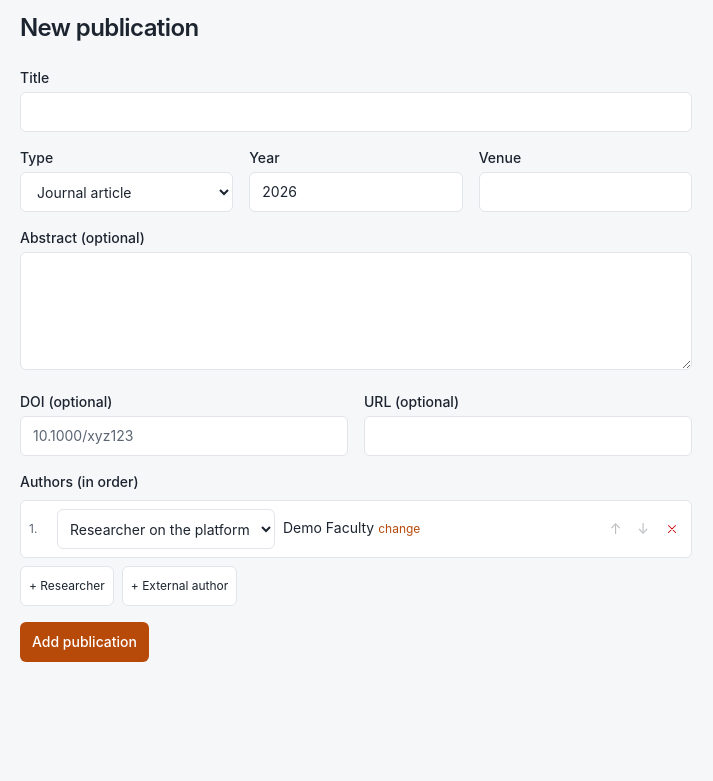
Test: PublicationFormPage › blocks submit when an author row is incomplete
The image size is (713, 781).
Type "Paper" into the field labelled "Title" at coordinates (356, 112), box 20,92 -> 692,132
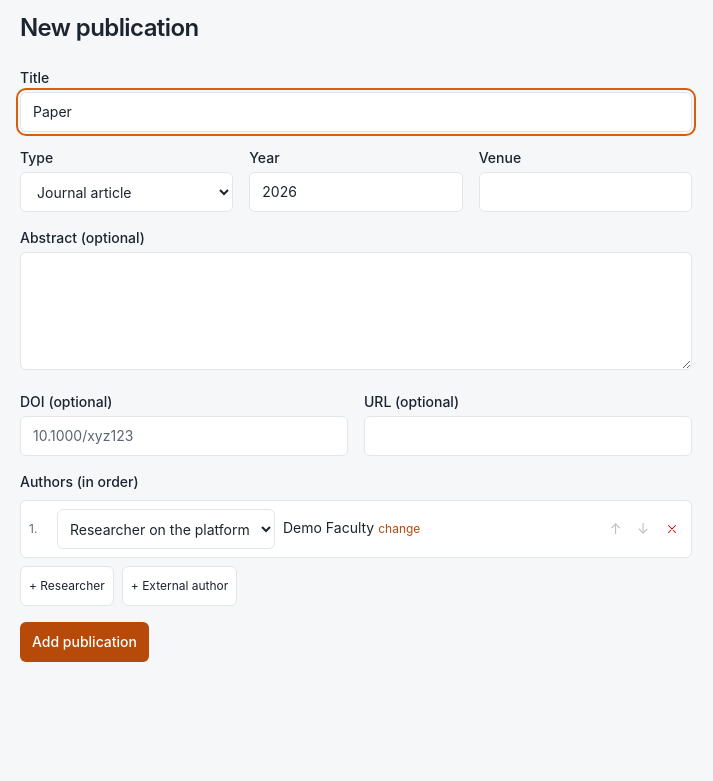
Click the button "+ External author" at coordinates (180, 586), box 122,566 -> 237,606
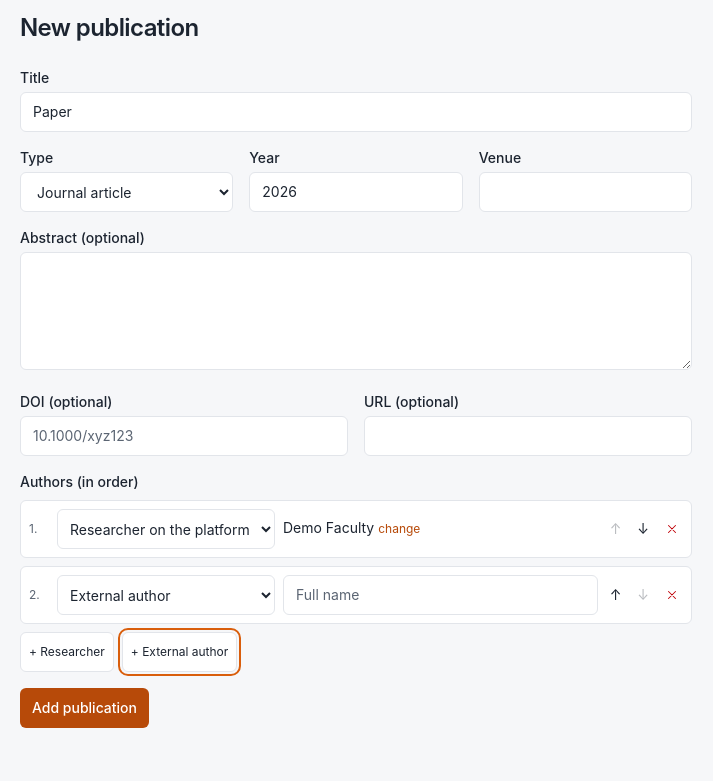
Click the button "Add publication" at coordinates (84, 708), box 20,688 -> 149,728
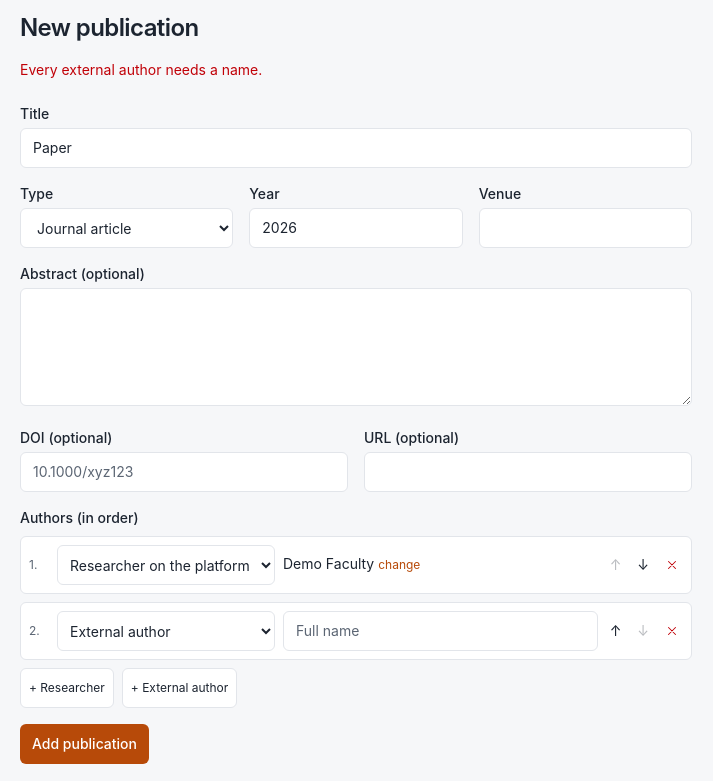
Expected: the message shows "needs a name", 20,61 -> 262,78
